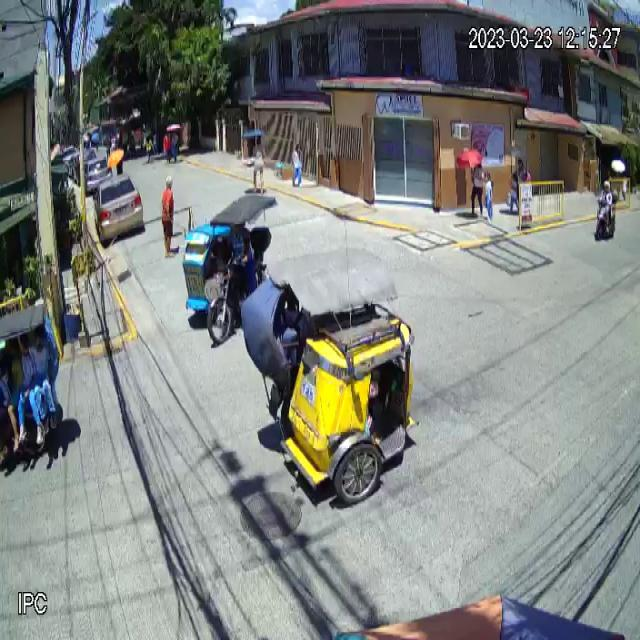Car: (93, 174, 144, 240)
Tricycle: (243, 246, 419, 504), (182, 195, 281, 349)
